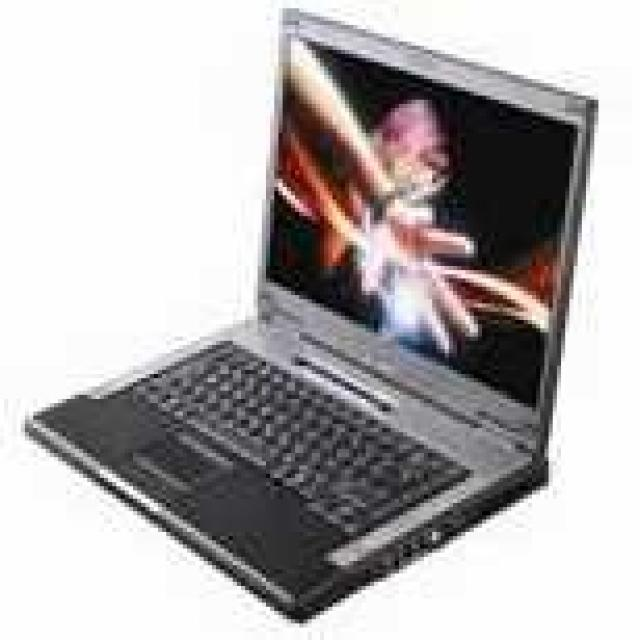laptop: (52, 17, 586, 602)
